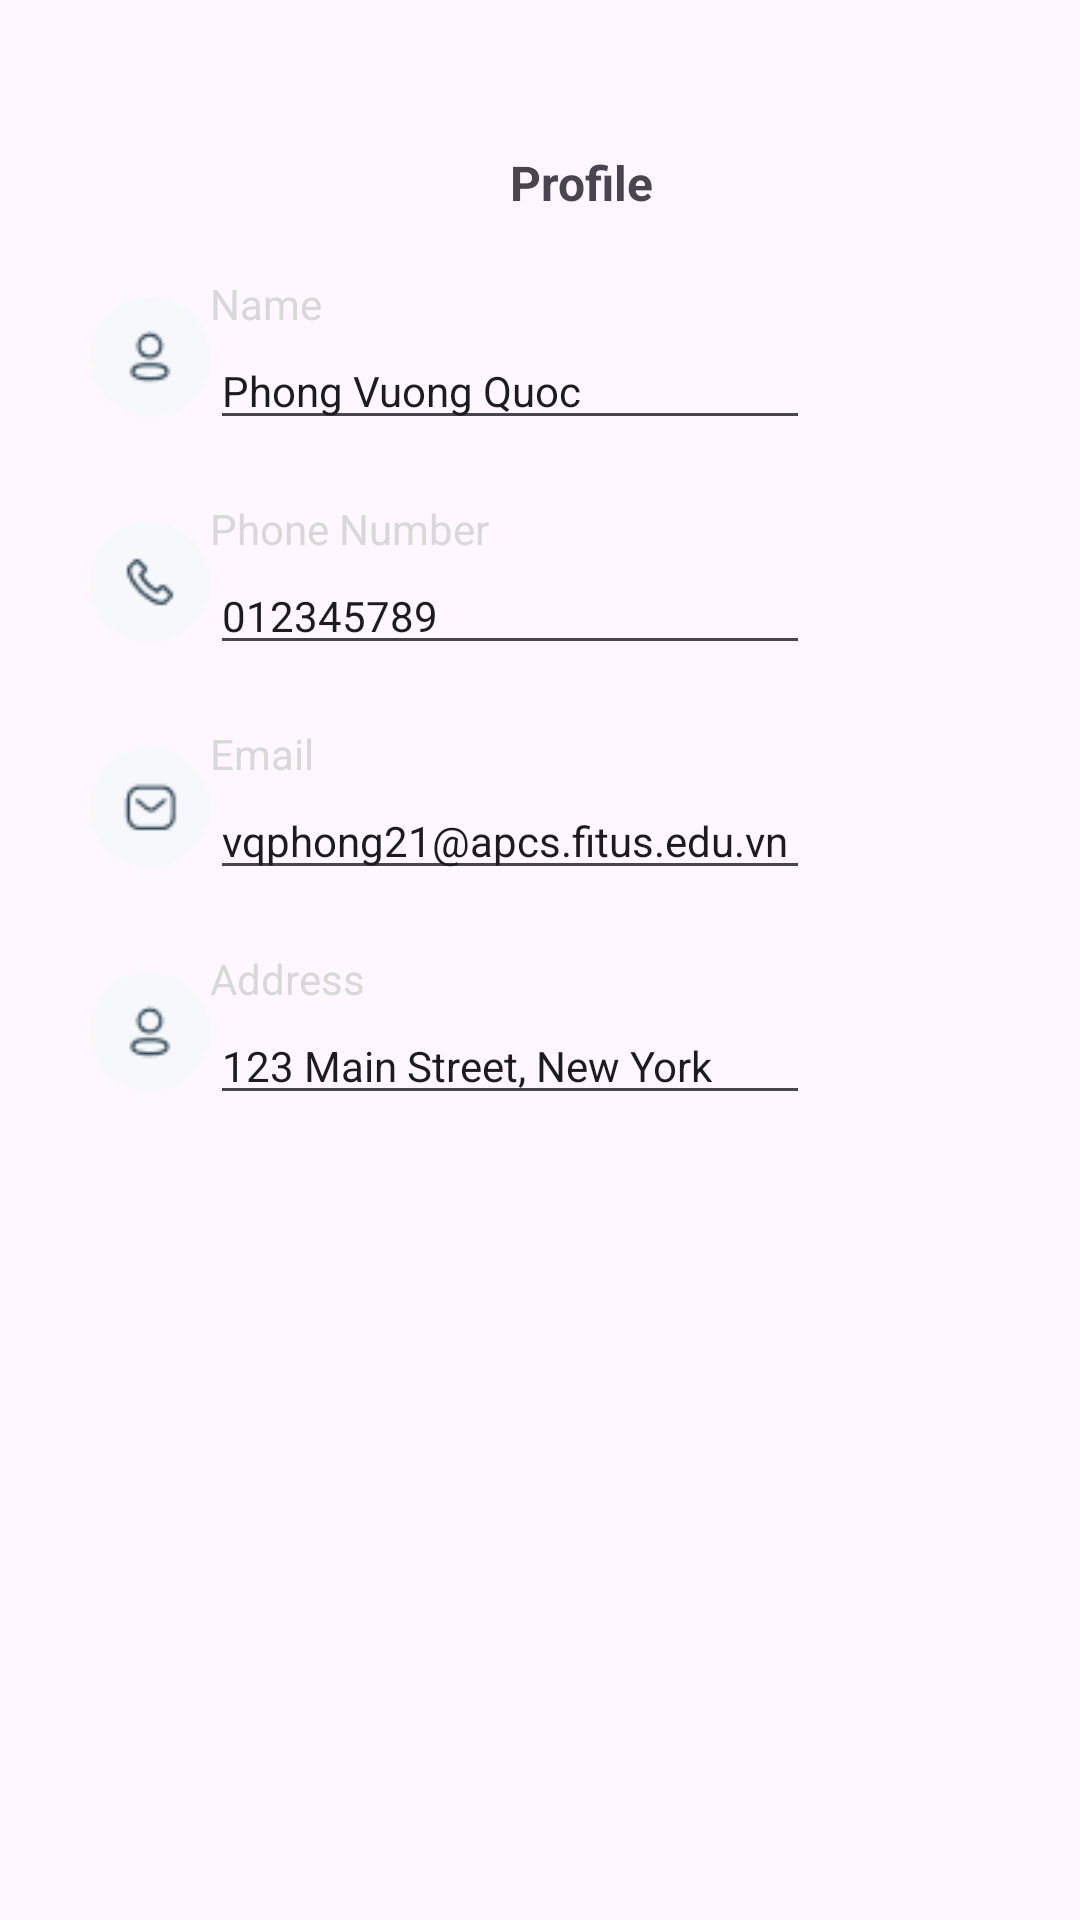

Icons on this 1080px×1920px Android screen, each with its box as (x1, y1, x2, y2):
profile: (129, 331, 171, 383), (129, 1006, 171, 1058)
